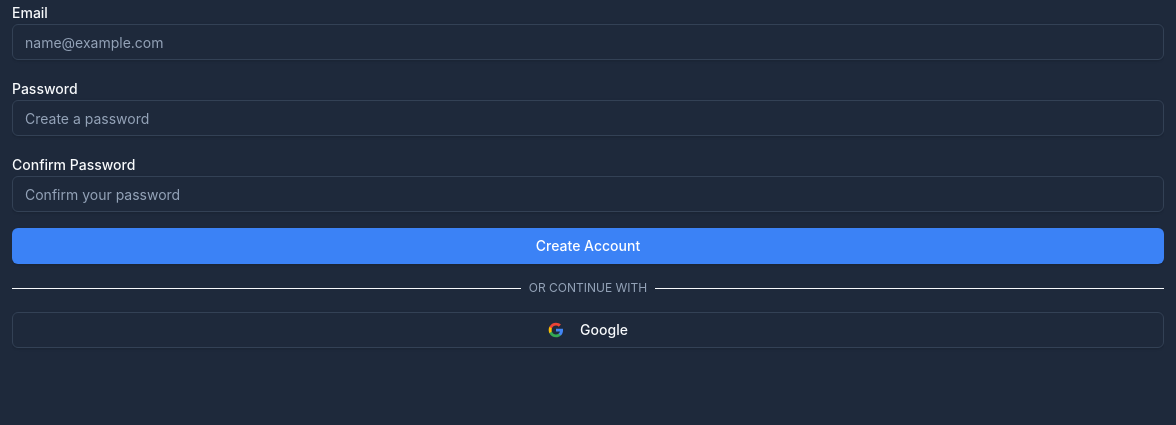
Test: SignupForm › shows validation error when password is shorter than 6 characters
The image size is (1176, 425).
Type "user@example.com" into the field with placeholder "name@example.com".
click(588, 42); type("user@example.com")  # box [12,24,1164,60]
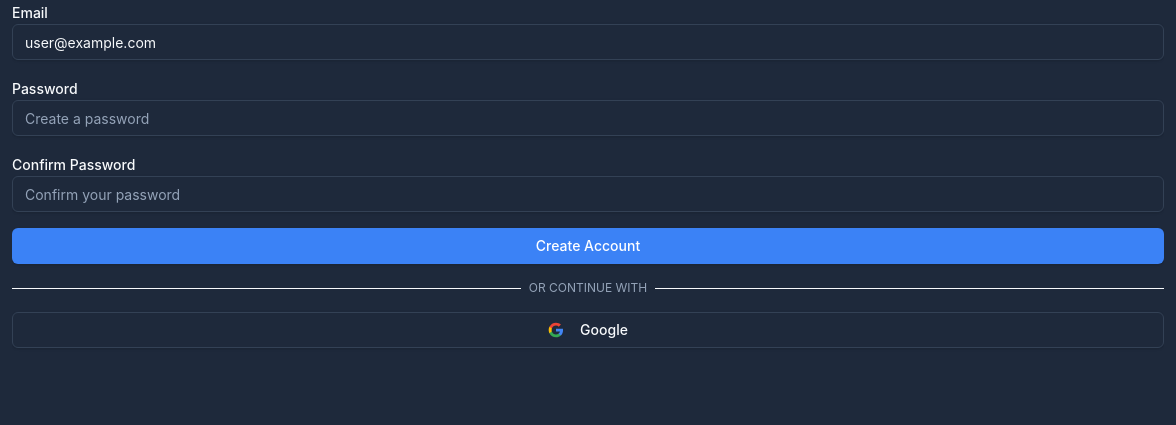
Type "12345" into the password field with placeholder "Create a password".
click(588, 118); type("12345")  # box [12,100,1164,136]
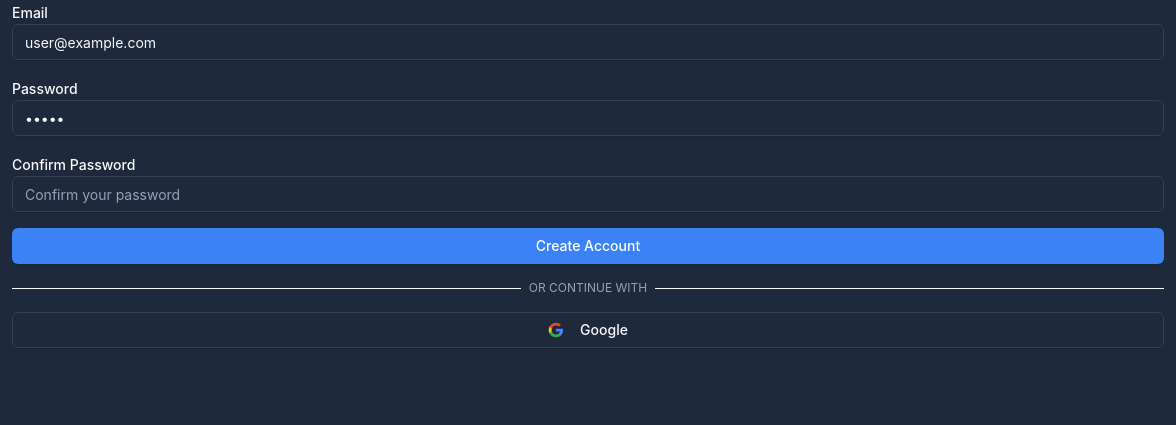
Type "12345" into the password field with placeholder "Confirm your password".
click(588, 194); type("12345")  # box [12,176,1164,212]
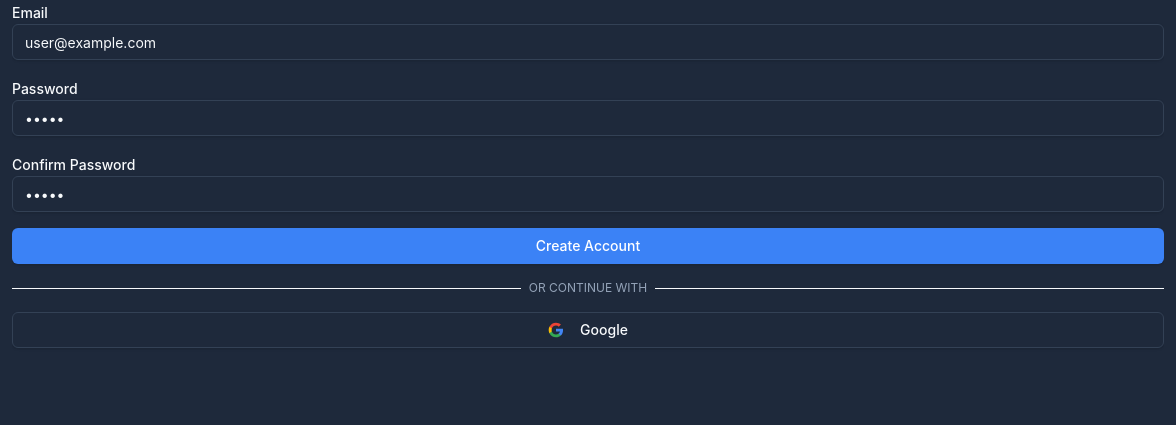
Click the button "Create Account".
click(588, 246)  # box [12,228,1164,264]
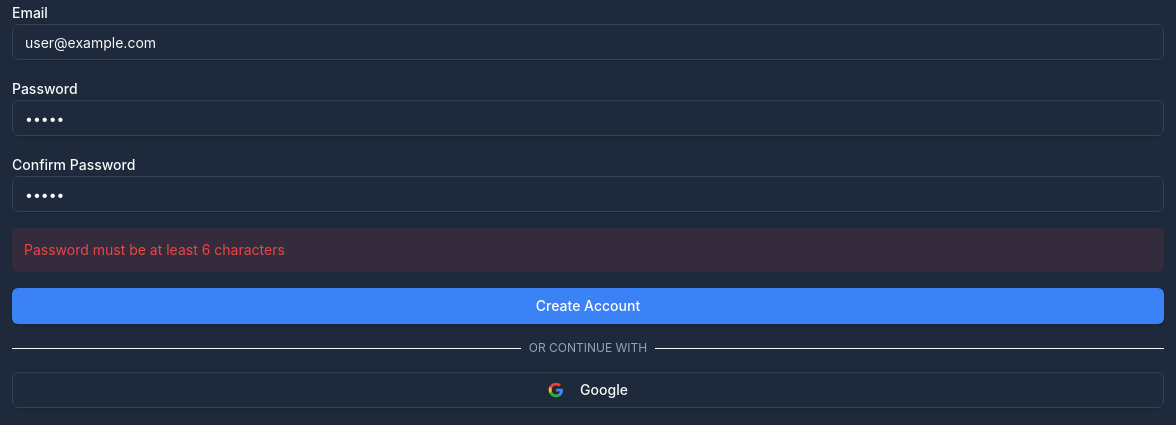
Check: the text "Password must be at least 6 characters" is shown, box [12,228,1164,272]
